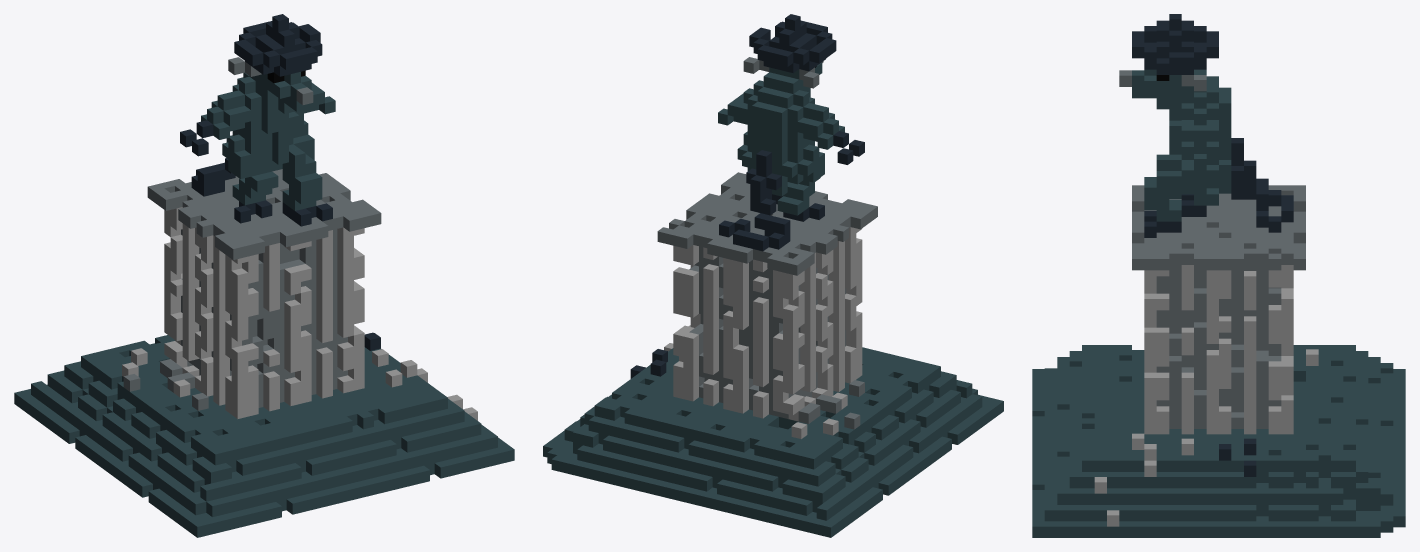
The model's file is rat_statue_damaged.obj.
The picture shows the model from 3 angles, left to right: view 1: azimuth 30°, elevation 25°; view 2: azimuth 150°, elevation 25°; view 3: azimuth 270°, elevation 25°; orthographic projection. The views are drawn at different scales.
Bounding box in the file's own units: 3 × 3.9 × 3.
1 material, 1 textured.
